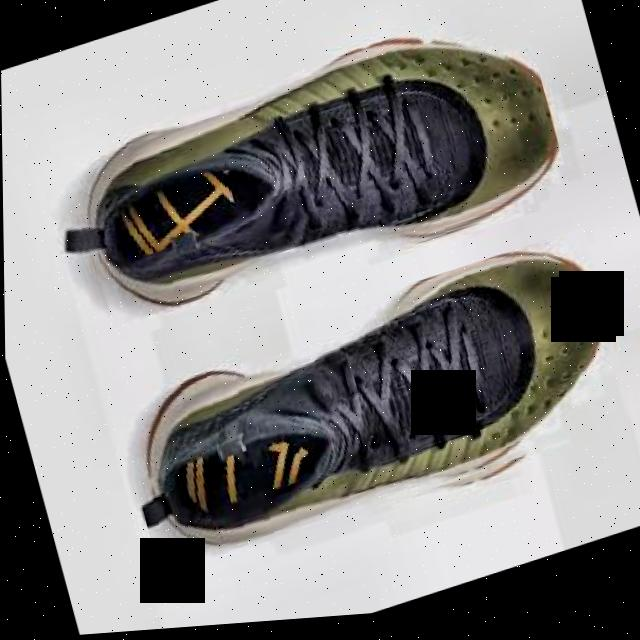shoe: (105, 233, 639, 593), (52, 1, 572, 349)
